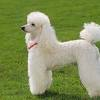Bulldog: (16, 9, 100, 96)
